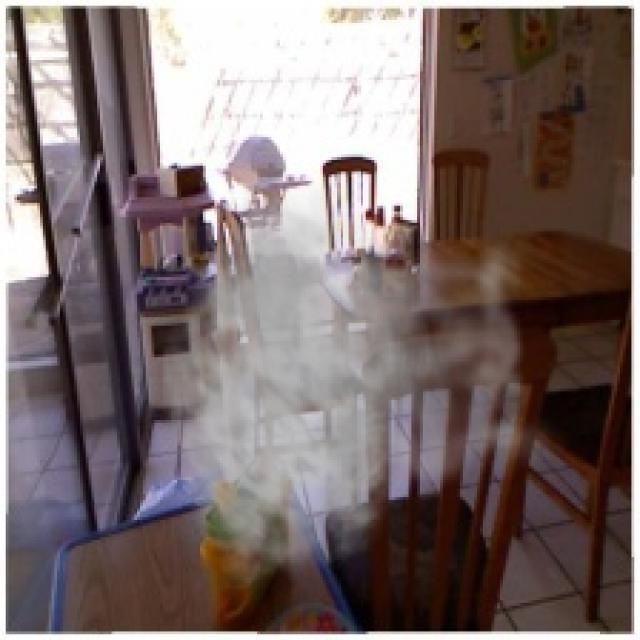Smoke: (160, 162, 560, 588)
